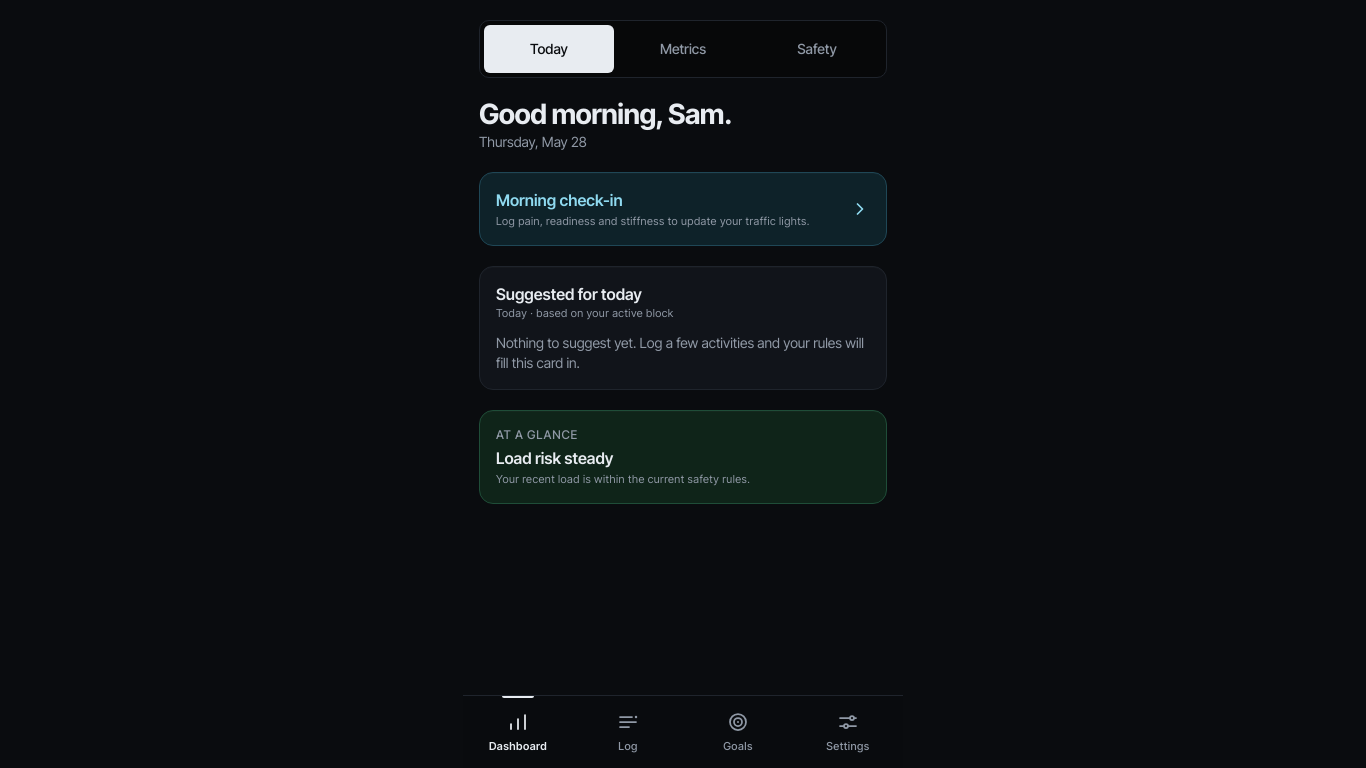
Test case: Settings stack navigation (F9.4) › opens edit activity as a centered modal without pushing a stack screen
Click the button "Settings" at (848, 732), box [793, 696, 903, 767]
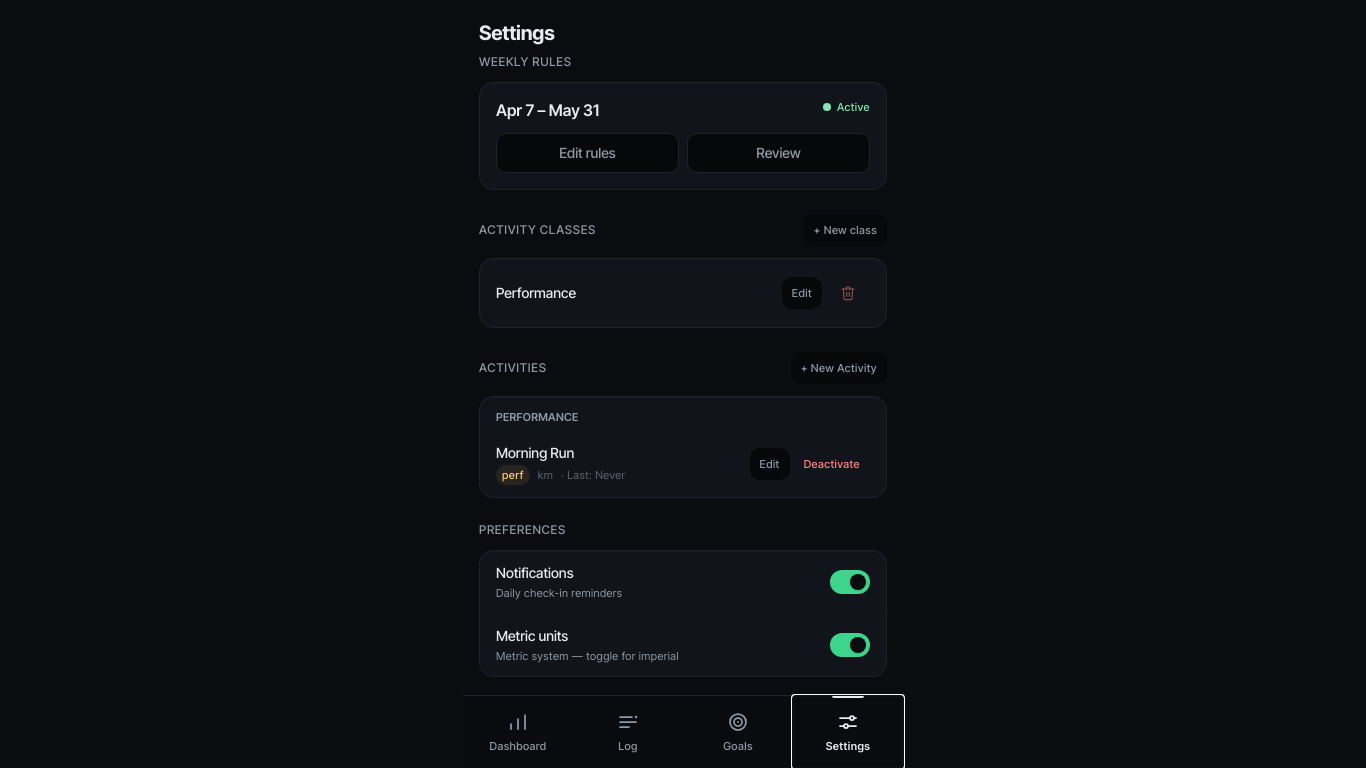
Click the button with aria-label "edit morning run" at (770, 464), box [750, 448, 790, 480]
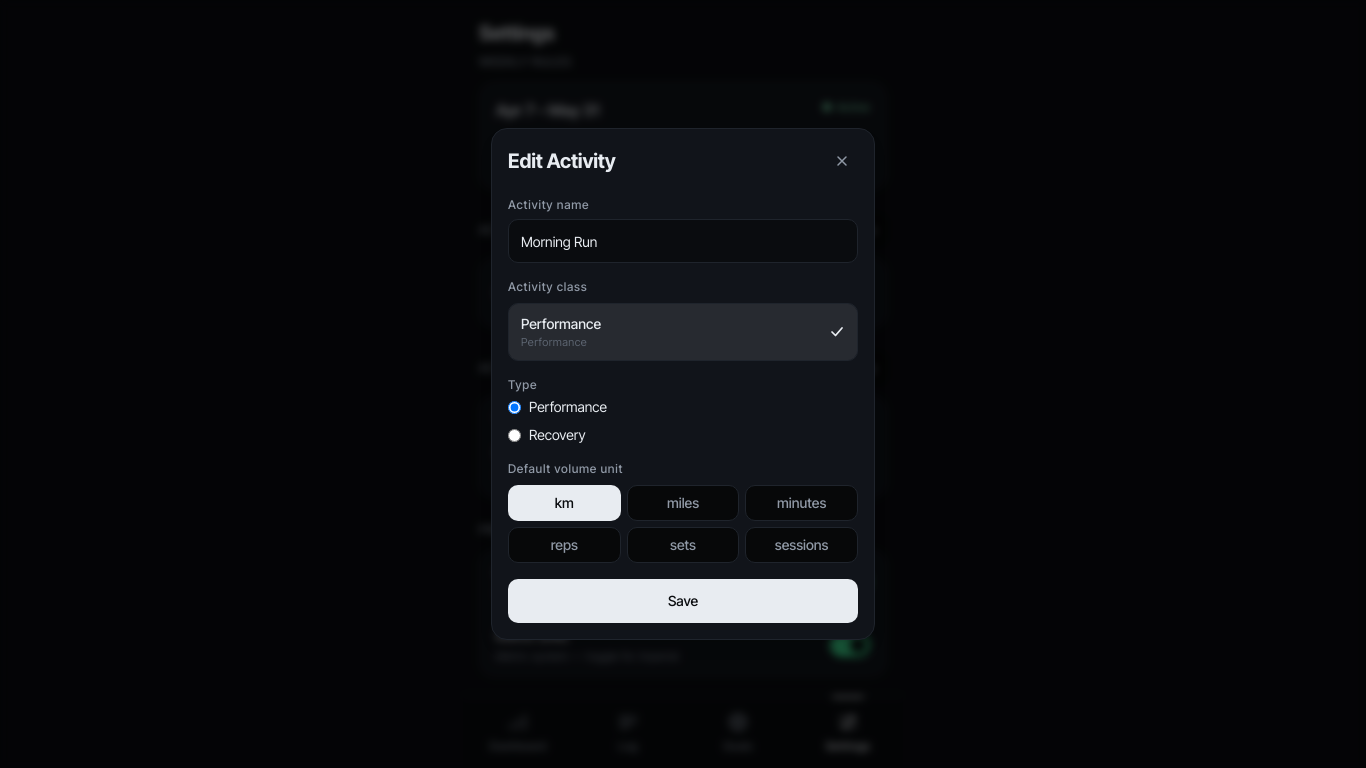
Check: the navigation bar named "Primary" is shown, box [463, 695, 903, 767]
Check: the dialog "Edit Activity" is shown, box [491, 128, 875, 640]
